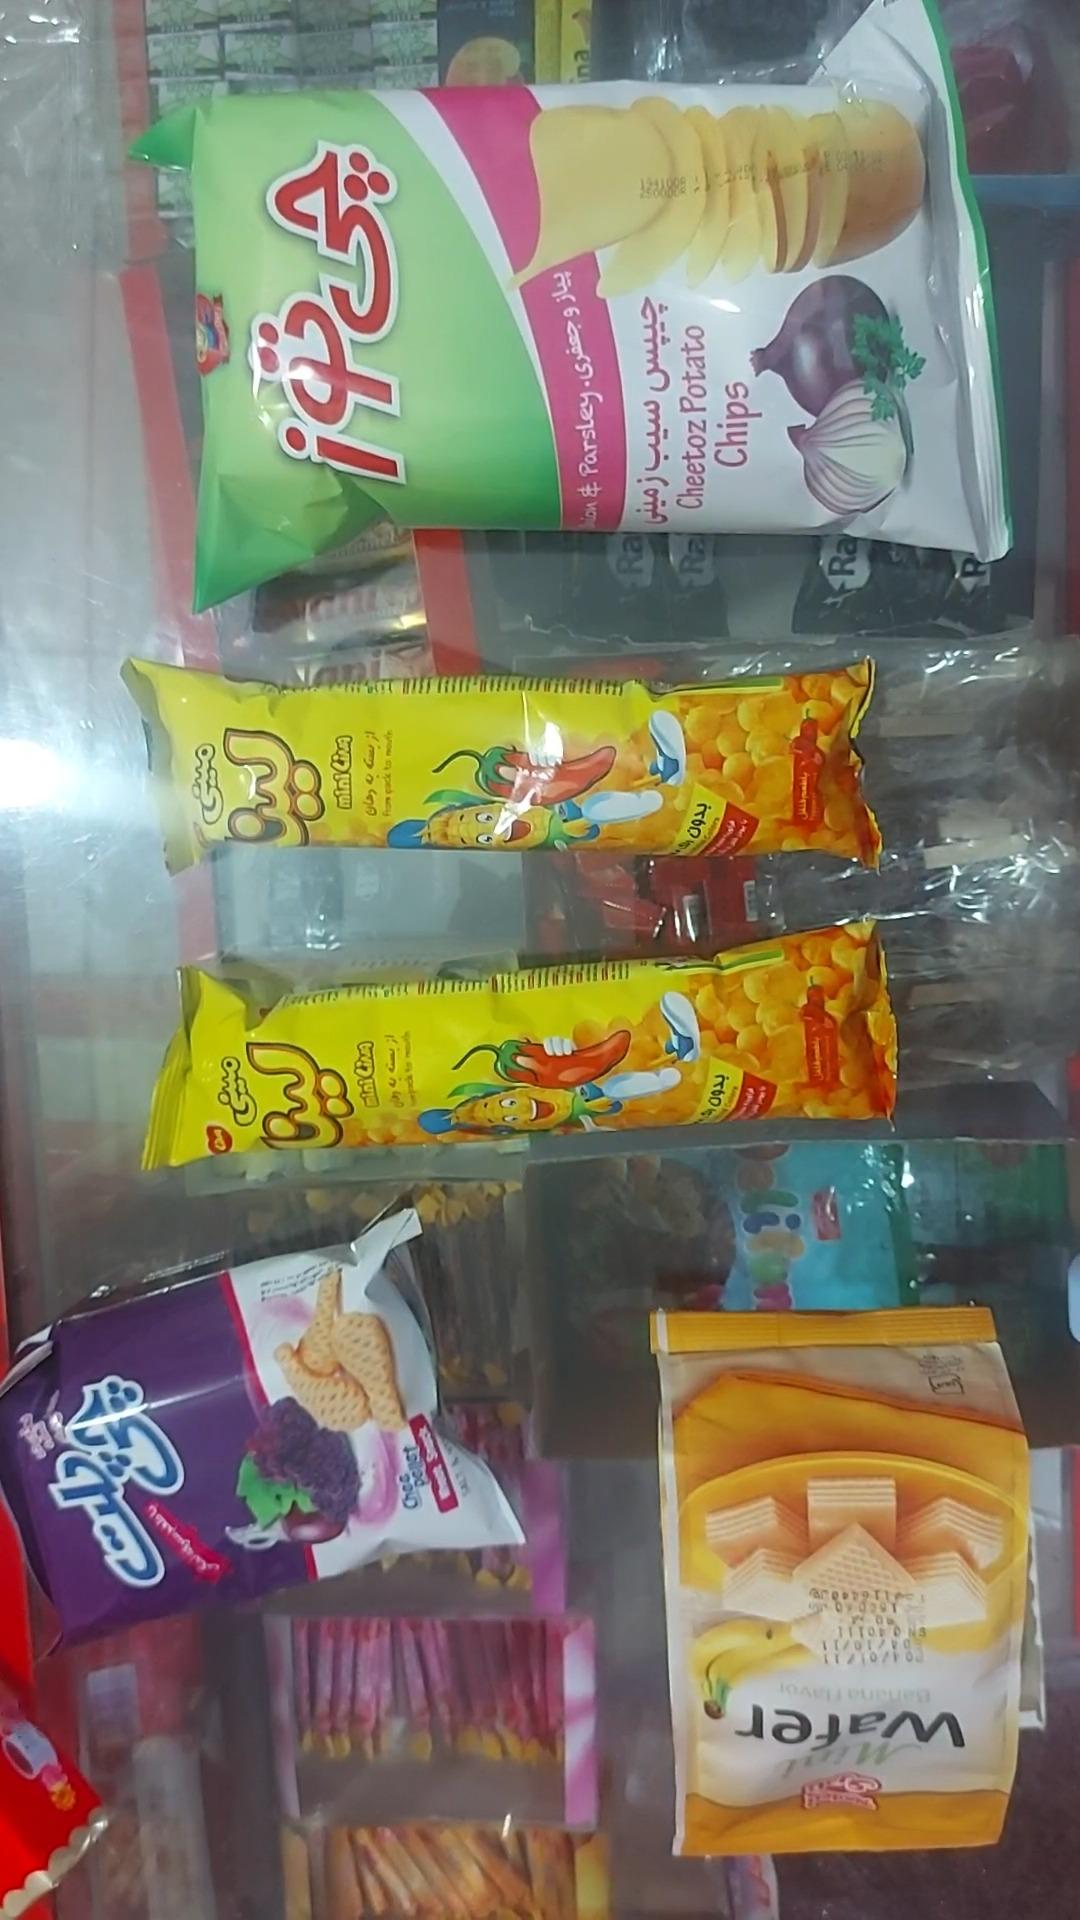Chee pellet vinegar: (0, 1207, 527, 1648)
Cheetoz onion and parsley chips: (131, 0, 1015, 613)
Mini Lina: (140, 920, 897, 1172), (121, 658, 884, 876)
Naderi mini wafer: (647, 1305, 1029, 1859)
